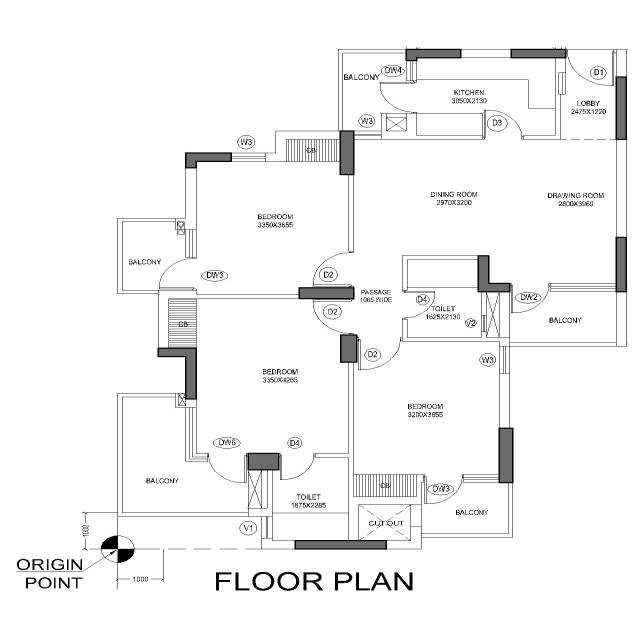Column: (157, 346, 199, 402), (476, 254, 513, 294), (292, 538, 390, 552), (612, 76, 630, 143), (496, 426, 516, 486), (613, 234, 629, 294), (338, 128, 357, 177), (296, 286, 357, 301), (404, 47, 464, 62), (184, 151, 234, 169), (245, 450, 281, 472), (338, 333, 360, 365), (509, 48, 569, 59)
Door: (346, 296, 357, 337), (564, 47, 619, 55), (354, 335, 404, 343), (278, 451, 320, 459), (401, 287, 409, 322), (480, 134, 526, 140), (348, 250, 354, 289)
Ventilator: (260, 515, 274, 540), (480, 314, 488, 334)
Window: (230, 151, 268, 163), (498, 344, 512, 375), (351, 130, 384, 141)
